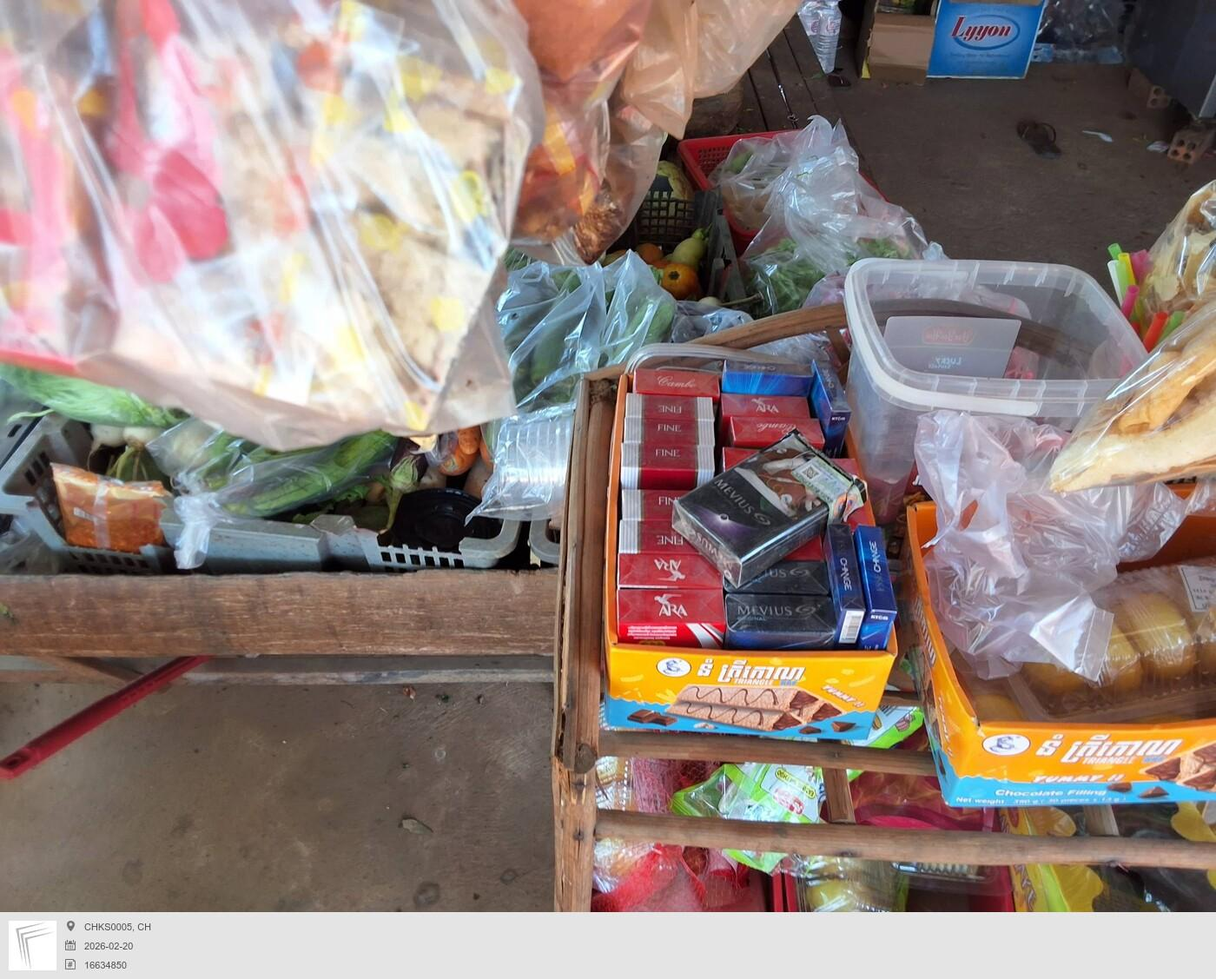cigarette_pack: (677, 419, 870, 581), (606, 591, 741, 644), (726, 597, 828, 653), (614, 444, 713, 490), (861, 526, 895, 656), (613, 556, 727, 593), (826, 527, 859, 652), (728, 558, 829, 598), (615, 521, 709, 556), (728, 360, 813, 397), (726, 418, 834, 447), (632, 370, 717, 401), (623, 419, 709, 446), (619, 491, 700, 519), (818, 361, 845, 441), (619, 397, 716, 419), (715, 397, 810, 417)
